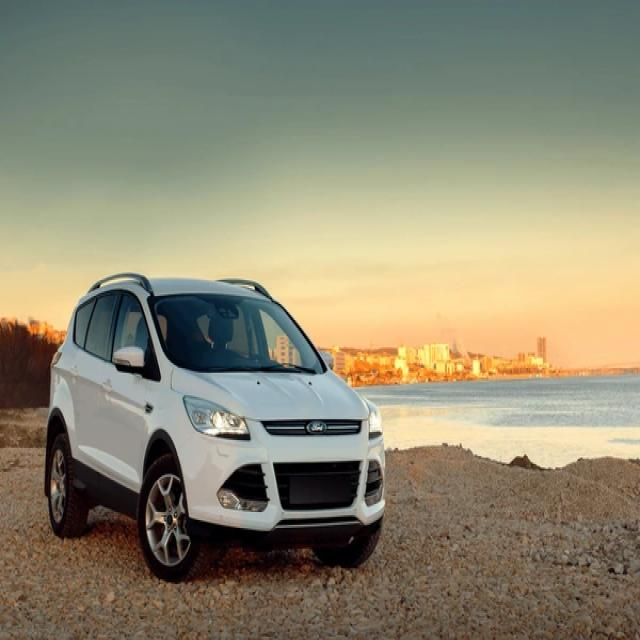ford: (307, 417, 327, 436)
